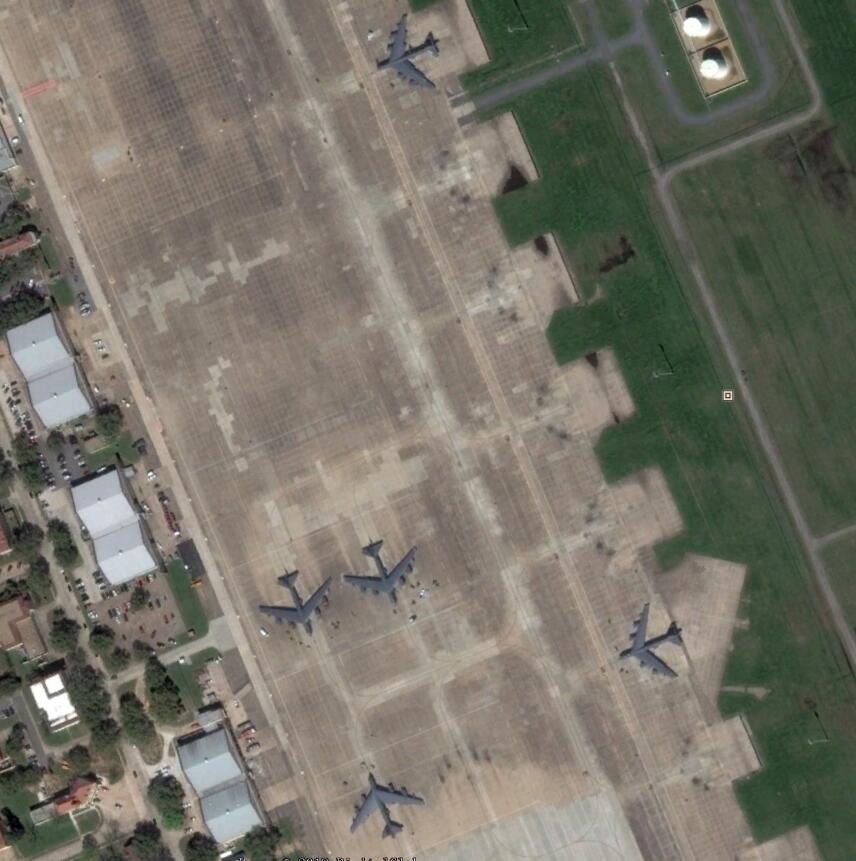A8: (371, 13, 450, 93), (254, 567, 336, 639), (616, 599, 686, 682), (340, 536, 420, 605), (347, 775, 426, 843)
